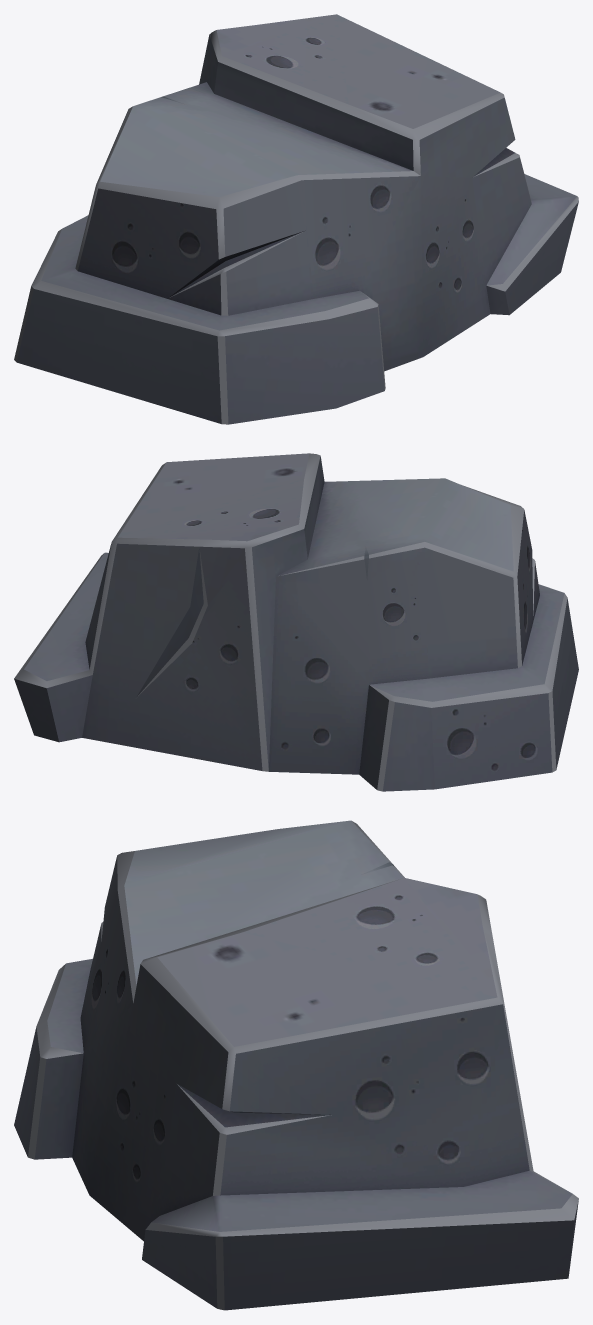
The model's file is MediumForestRock.fbx.
3 renders of one model, top to bottom at view 1: azimuth 30°, elevation 25°; view 2: azimuth 150°, elevation 25°; view 3: azimuth 270°, elevation 25°, orthographic. The views are drawn at different scales.
Parts seen in each view (by area): view 1: MediumForestRock; view 2: MediumForestRock; view 3: MediumForestRock.
Part boxes in pixels (left/top/right/bottom): MediumForestRock: left=14, top=14, right=578, bottom=424; MediumForestRock: left=14, top=453, right=578, bottom=791; MediumForestRock: left=14, top=820, right=578, bottom=1310.
Bounding box in the file's own units: 276 × 114 × 212.
